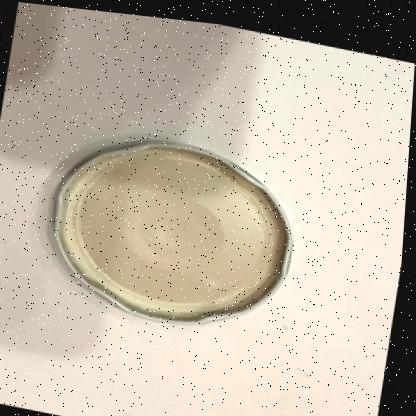Metal: (56, 137, 295, 319)
